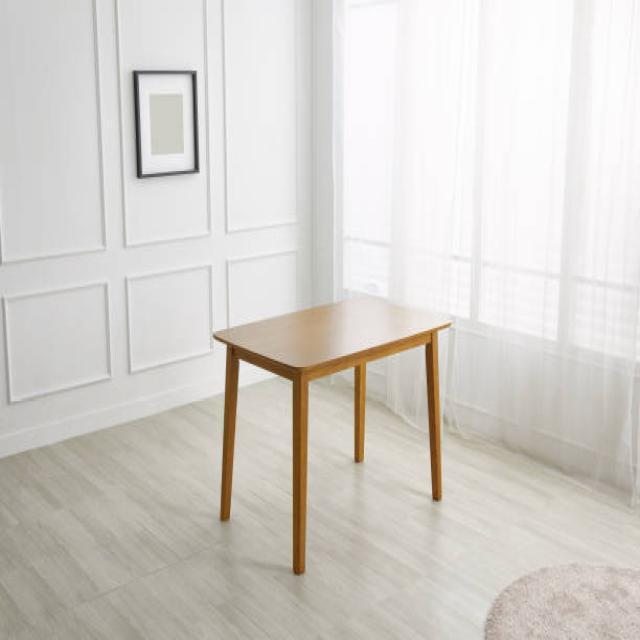table: (212, 292, 452, 574)
